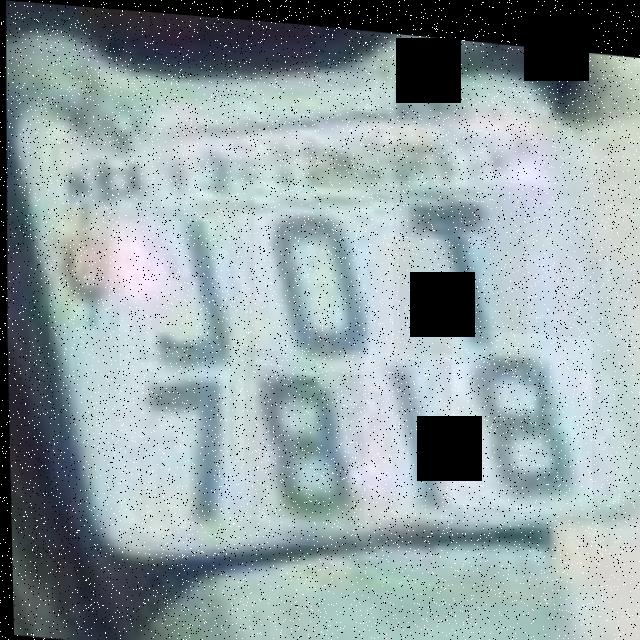1: (363, 344, 456, 499)
7: (114, 351, 253, 538)
8: (447, 318, 593, 509), (239, 342, 365, 519)
J: (115, 184, 249, 382)
O: (250, 175, 396, 371)
T: (395, 176, 529, 353)
